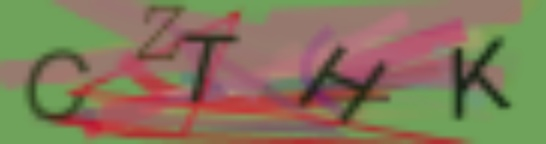G: (25, 44, 92, 125)
H: (293, 44, 388, 126)
K: (447, 33, 512, 125)
T: (176, 27, 244, 106)
Z: (136, 5, 183, 61)
